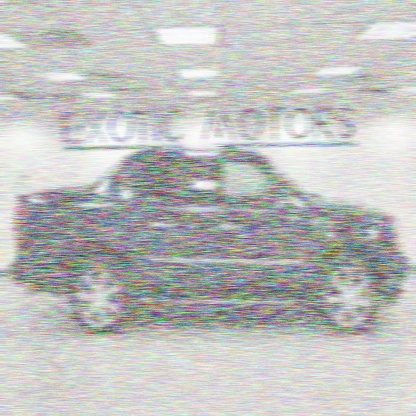Vehicle: (11, 139, 413, 339)
